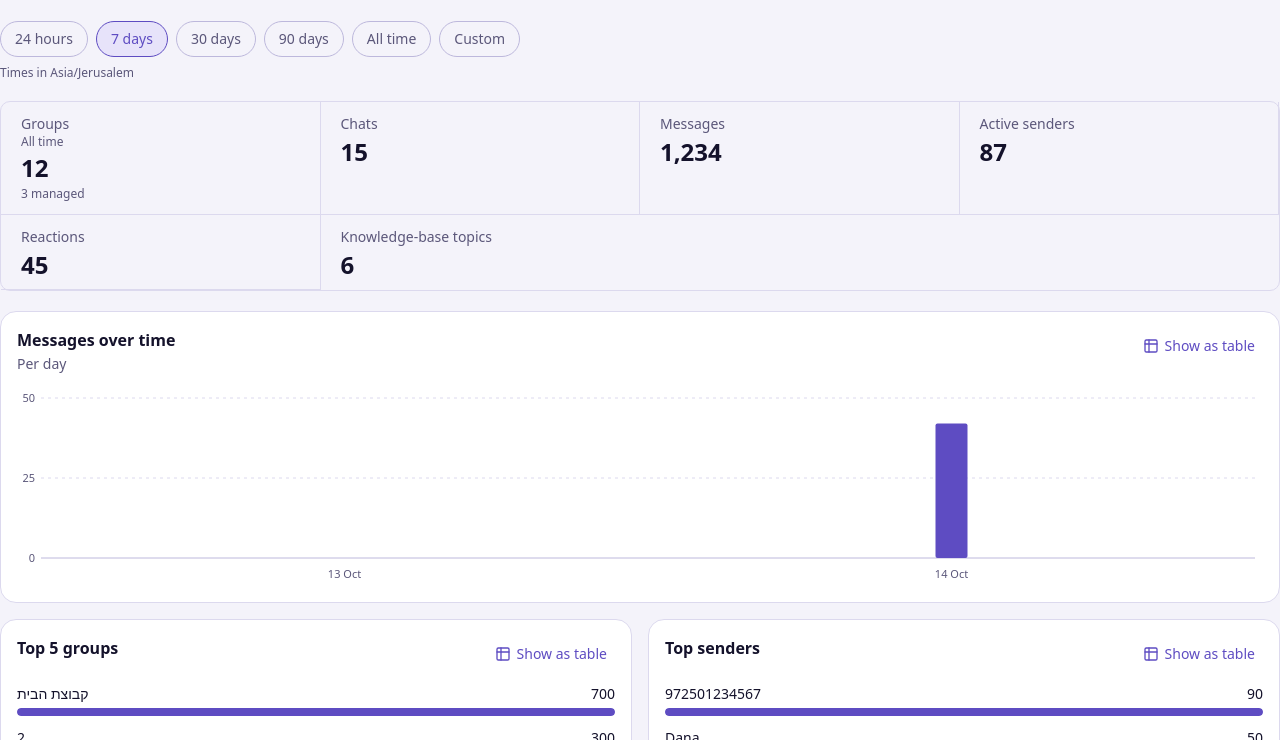
Test case: Dashboard request parameters › 24 hours requests ?range=24h and writes it to the URL
The image size is (1280, 740).
Step 1. Click the button "24 hours" → (44, 39), box [0,21,88,57]
(page scrolled)
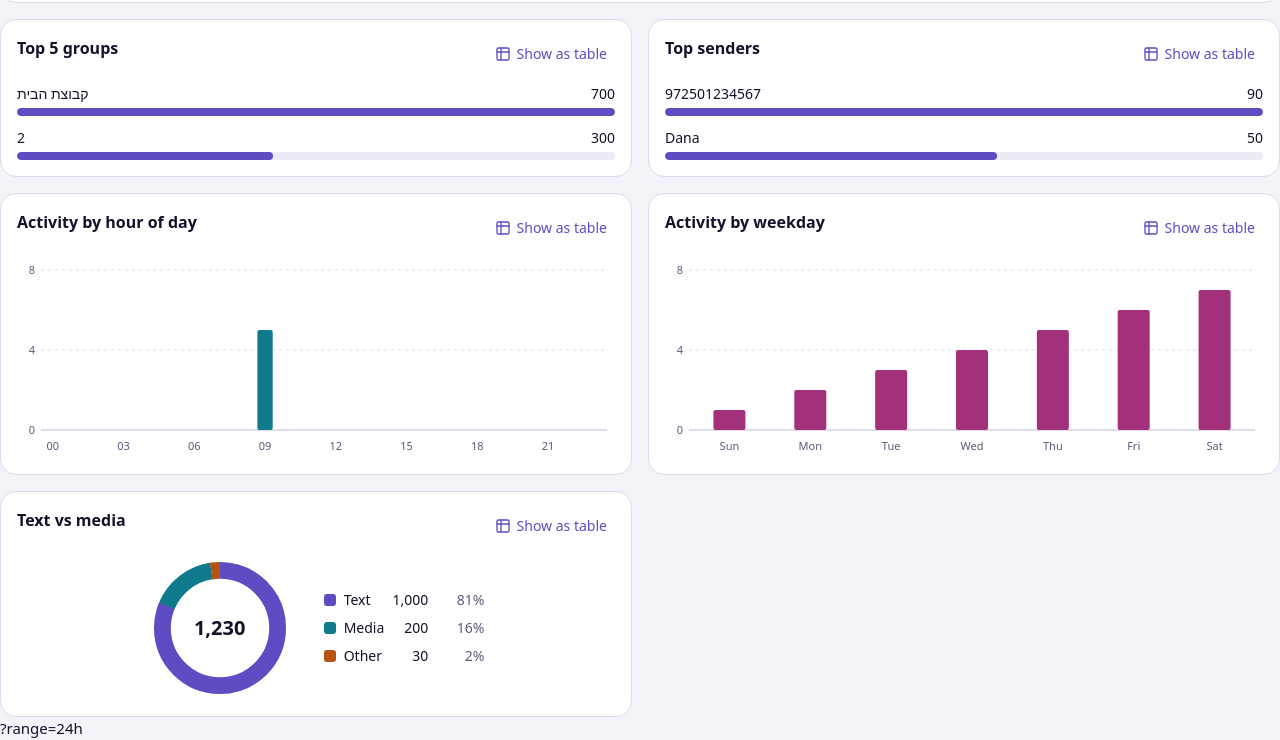
Check: the text with test id "search" reads "?range=24h", box [0,718,83,738]
